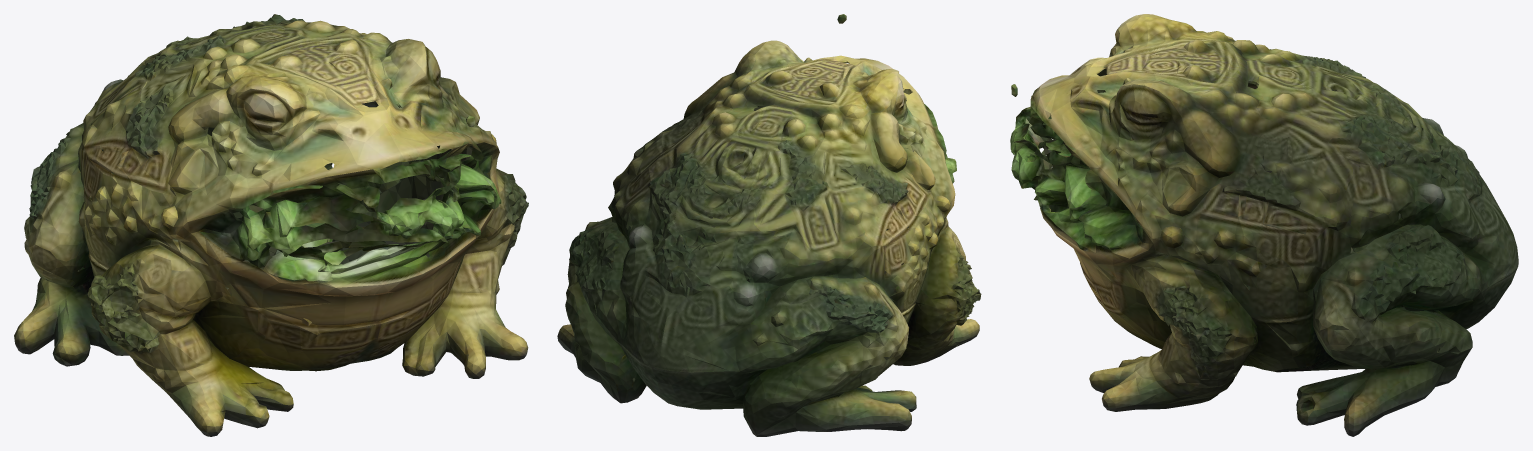
File: mawdeep__fenGlutton.glb
3 views of the same model, side by side, from view 1: azimuth 30°, elevation 25°; view 2: azimuth 150°, elevation 25°; view 3: azimuth 270°, elevation 25° (orthographic). The views are drawn at different scales.
Parts seen in each view (by area): view 1: world; view 2: world; view 3: world.
Part boxes in pixels (<box>): world: <box>14,14,528,436</box>; world: <box>557,14,981,436</box>; world: <box>1010,14,1518,436</box>.
Size of the model in its own units: 0.8951 by 0.6561 by 1.
Materials: 1 (1 with a texture image).
